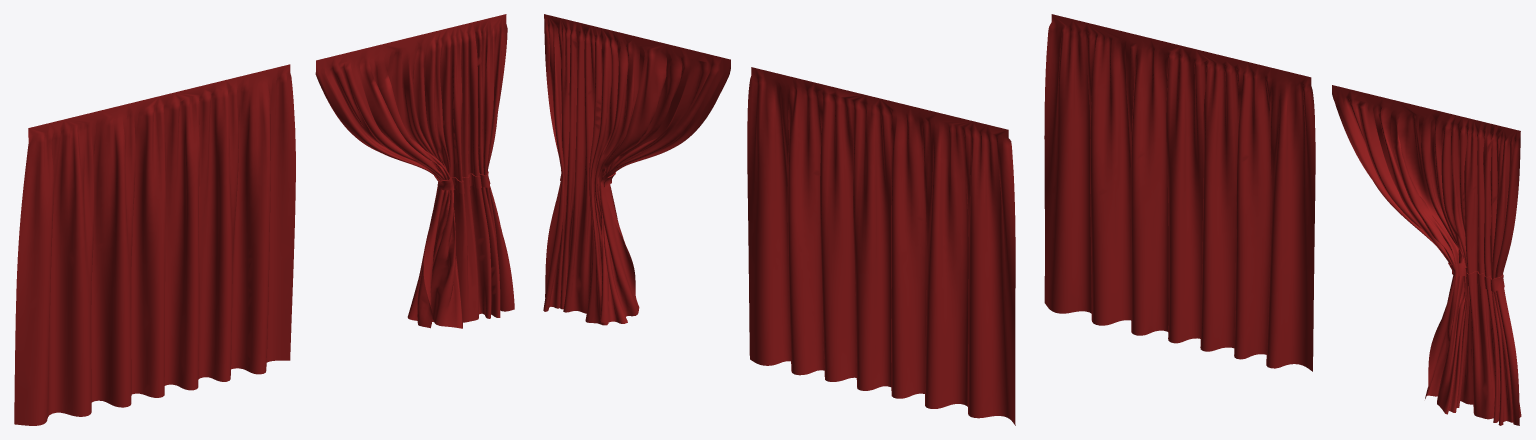
The model's file is curtain_milaink.glb.
3 renders of one model, left to right at view 1: azimuth 30°, elevation 25°; view 2: azimuth 150°, elevation 25°; view 3: azimuth 330°, elevation 25°, orthographic.
Size of the model in its own units: 4.38 by 2.54 by 0.4876.
